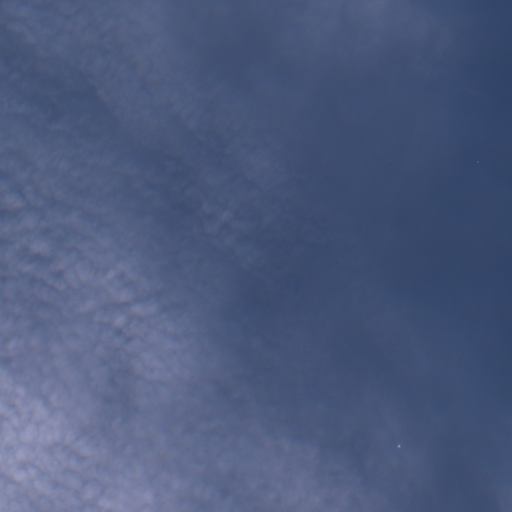Iceberg: (397, 445, 400, 447)
